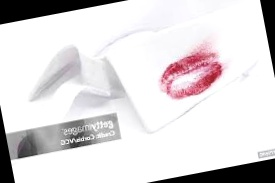lipstick: (156, 39, 231, 108)
